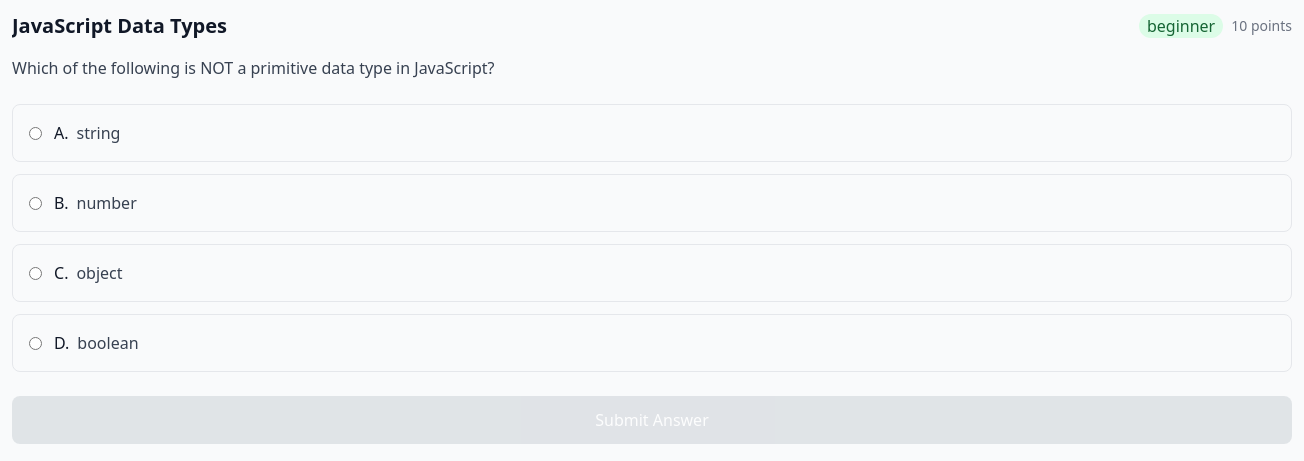
it: SkillAssessment › Multiple Choice Questions › should handle option selection
This screenshot has width=1304, height=461.
Check: the button "Submit Answer" is disabled, box [12,396,1292,444]
Select option C
Click the radio button showing "C": (36, 273) [29,266,42,280]
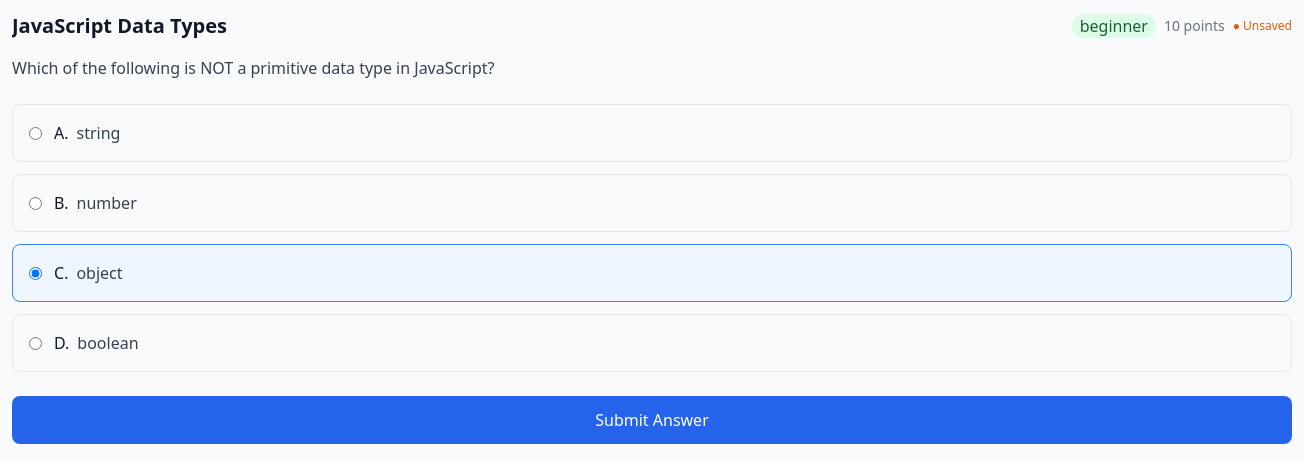
Check: the radio button showing "C" is checked, box [29,266,42,280]
Check: the button "Submit Answer" is enabled, box [12,396,1292,444]
